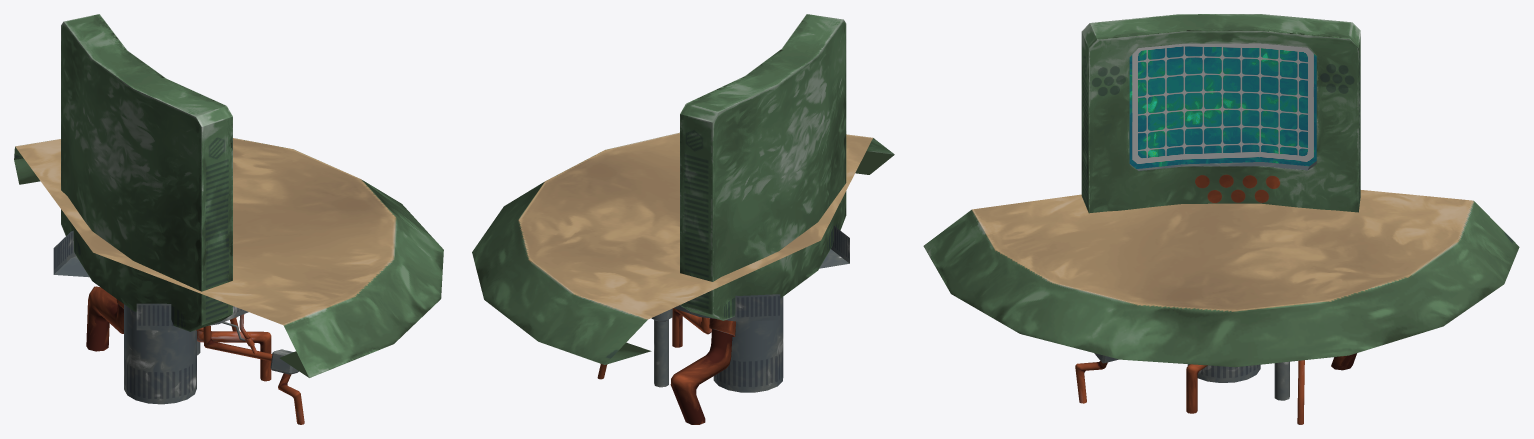
The model's file is WorkSlot_Cote.fbx.
The picture shows the model from 3 angles, left to right: view 1: azimuth 30°, elevation 25°; view 2: azimuth 150°, elevation 25°; view 3: azimuth 270°, elevation 25°; orthographic projection. The views are drawn at different scales.
Visible parts, largest first — view 1: WorkSlot_Cote; view 2: WorkSlot_Cote; view 3: WorkSlot_Cote.
Boxes of the visible parts, x1=… form: WorkSlot_Cote: x1=14, y1=14, x2=443, y2=424; WorkSlot_Cote: x1=472, y1=14, x2=894, y2=424; WorkSlot_Cote: x1=923, y1=14, x2=1519, y2=424.
Size of the model in its own units: 10.43 by 10.3 by 16.9.
